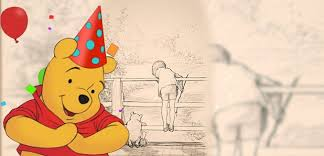Winnie: (32, 37, 118, 141)
